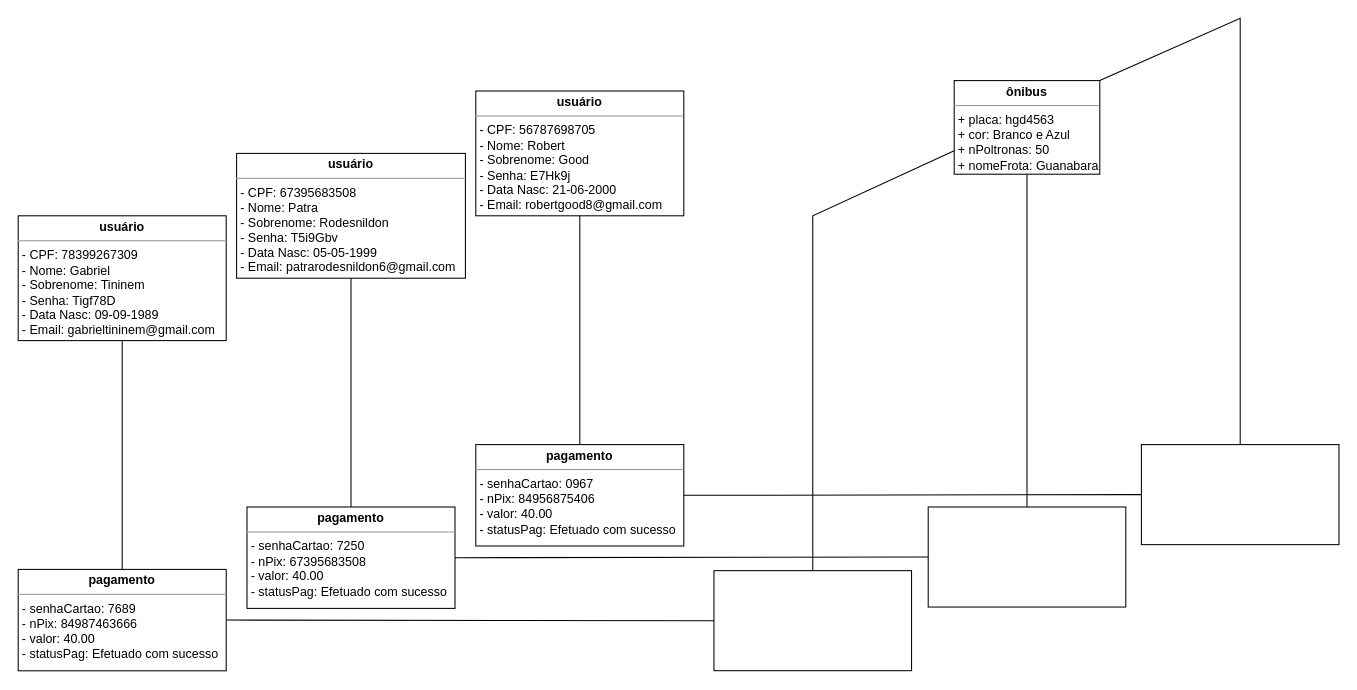
Some shapes in this 1357 by 690 pixel diagram are drawn without their labels. Here are the shapes that lost their labels. From the top down, the centre of each, then its label:
At (1239,494): "passagem - codigo: 09 + valor: 40.00 + nPoltrona: 01 + nomeFrota: Guanabara".
At (1026,556): "passagem - codigo: 10 + valor: 40.00 + nPoltrona: 02 + nomeFrota: Guanabara".
At (812,620): "passagem - codigo: 11 + valor: 40.00 + nPoltrona: 03 + nomeFrota: Guanabara".
